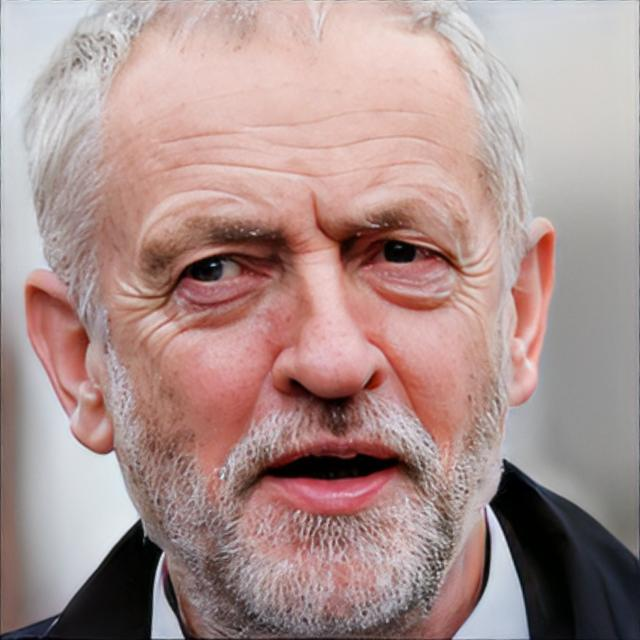anger: (109, 64, 514, 640)
